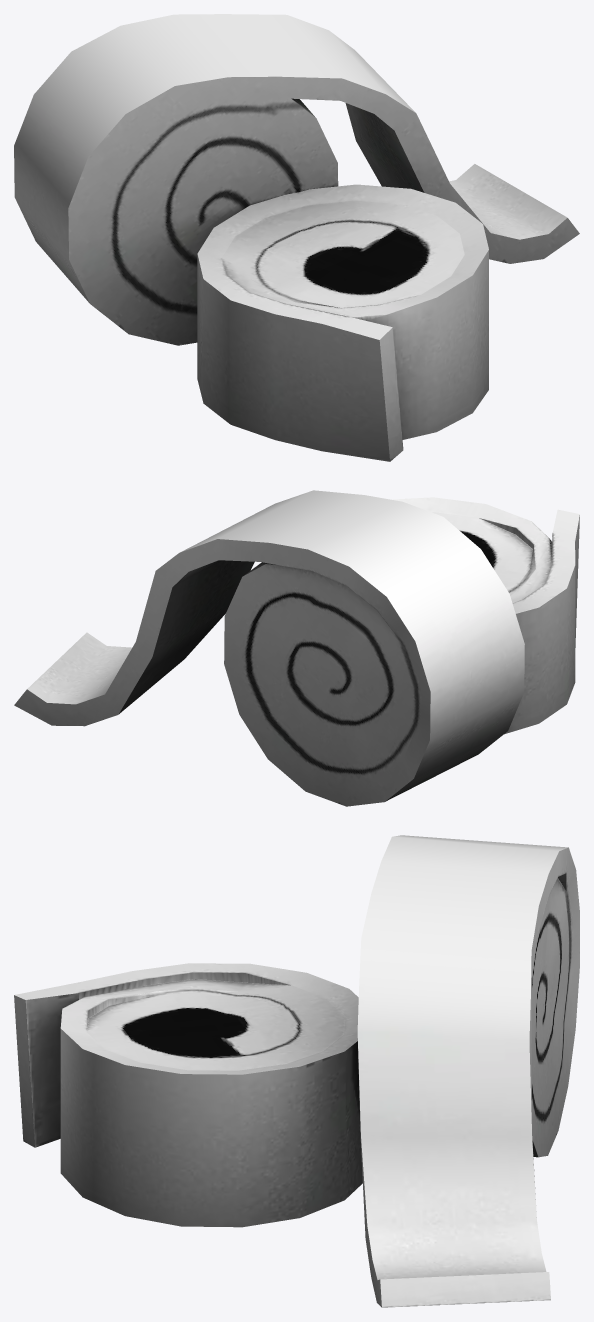
3 renders of one model, top to bottom at view 1: azimuth 30°, elevation 25°; view 2: azimuth 150°, elevation 25°; view 3: azimuth 270°, elevation 25°, orthographic. The views are drawn at different scales.
Parts seen in each view (by area): view 1: body0_model0_lod0_mesh0; view 2: body0_model0_lod0_mesh0; view 3: body0_model0_lod0_mesh0.
Part boxes in pixels (box(x1,y1,x2,y2)): body0_model0_lod0_mesh0: box(14, 14, 579, 461); body0_model0_lod0_mesh0: box(14, 490, 579, 806); body0_model0_lod0_mesh0: box(14, 835, 579, 1307).
Size of the model in its own units: 17.65 by 8.88 by 16.16.
1 material, 1 textured.
